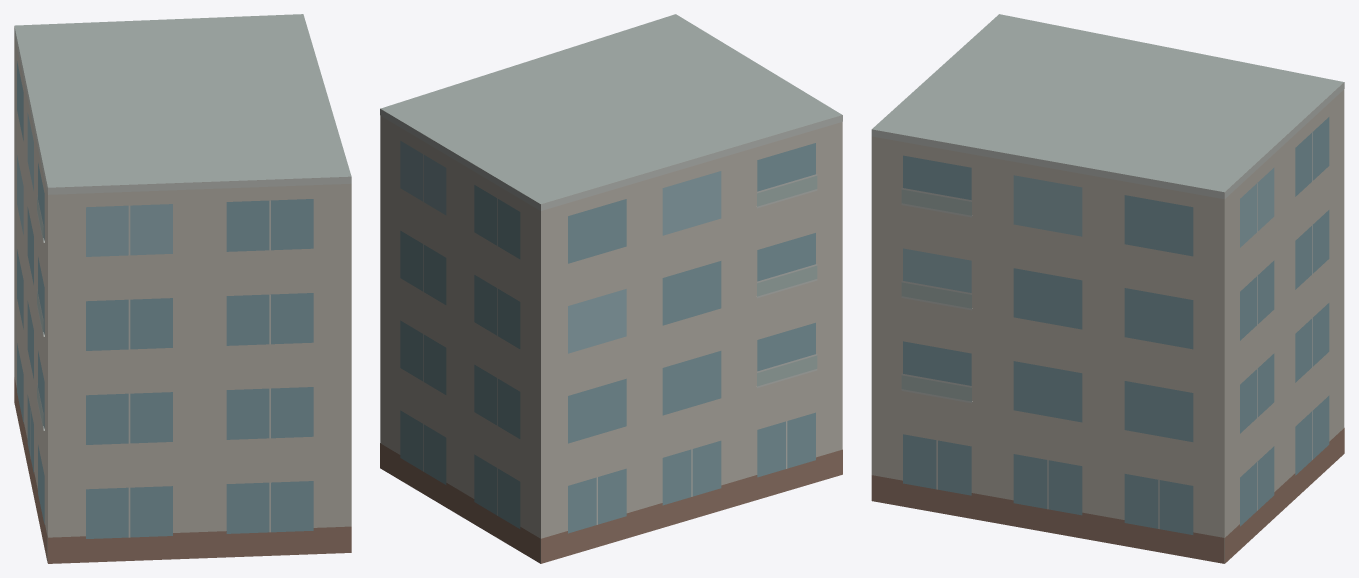
File: survey-upis-32674479.glb
3 renders of one model, left to right at view 1: azimuth 30°, elevation 25°; view 2: azimuth 150°, elevation 25°; view 3: azimuth 270°, elevation 25°, orthographic. The views are drawn at different scales.
Parts seen in each view (by area): view 1: survey-upis-32674479.tmp; view 2: survey-upis-32674479.tmp; view 3: survey-upis-32674479.tmp.
Boxes of the visible parts, x1=… form: survey-upis-32674479.tmp: x1=14, y1=14, x2=351, y2=563; survey-upis-32674479.tmp: x1=380, y1=14, x2=842, y2=563; survey-upis-32674479.tmp: x1=871, y1=14, x2=1344, y2=563.
Bounding box in the file's own units: 13.28 × 12.9 × 14.88.
